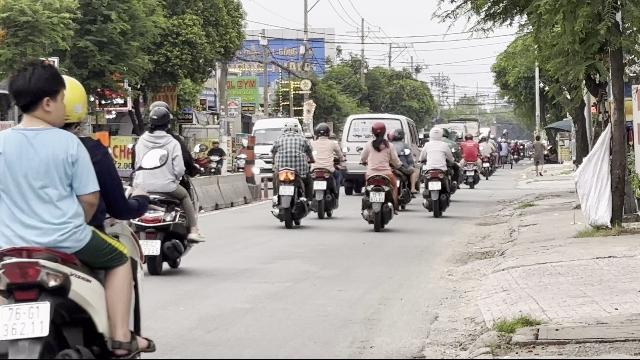helmet: (61, 75, 90, 133), (148, 105, 172, 137), (370, 121, 386, 139), (283, 116, 299, 132)
licenseplate: (0, 302, 50, 341), (138, 240, 160, 256), (278, 186, 294, 196), (370, 192, 384, 202)
motorcyclist: (0, 62, 156, 356), (125, 99, 205, 276), (269, 115, 311, 226), (358, 121, 400, 229)
nohelmet: (6, 63, 68, 126), (283, 118, 299, 132)
